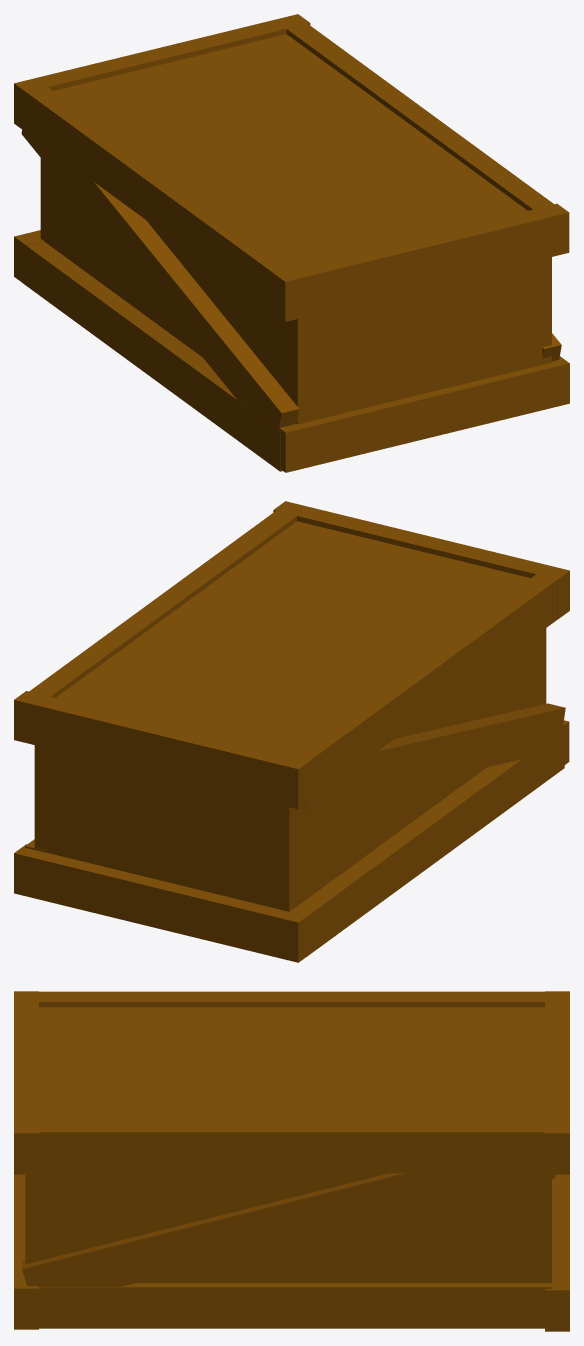
3 renders of one model, top to bottom at view 1: azimuth 30°, elevation 25°; view 2: azimuth 150°, elevation 25°; view 3: azimuth 270°, elevation 25°, orthographic. The views are drawn at different scales.
Parts seen in each view (by area): view 1: Cube.003; view 2: Cube.003; view 3: Cube.003.
Boxes of the visible parts, x1,y1,x2,y2 form: Cube.003: (14,14,569,472); Cube.003: (14,501,569,962); Cube.003: (14,991,569,1331).
Bounding box in the file's own units: 645 × 420 × 1064.
